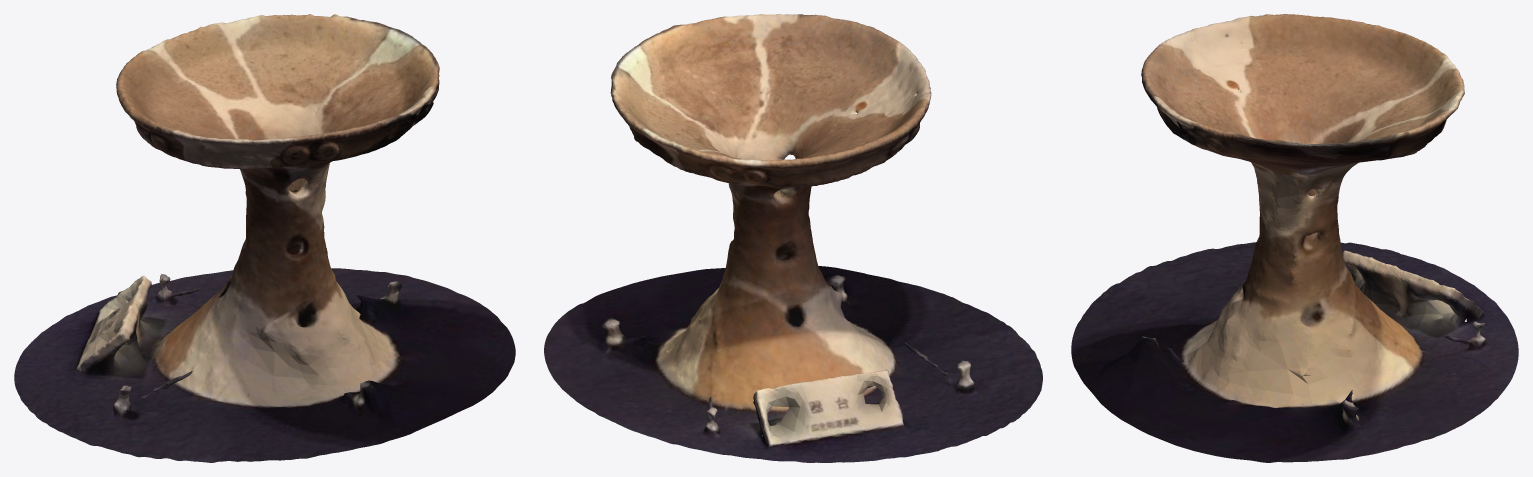
The model's file is kokaidotest3.glb.
3 views of the same model, side by side, from view 1: azimuth 30°, elevation 25°; view 2: azimuth 150°, elevation 25°; view 3: azimuth 270°, elevation 25° (orthographic).
Visible parts, largest first — view 1: mesh; view 2: mesh; view 3: mesh.
Boxes of the visible parts, left/top/right/bottom form: mesh: left=14, top=14, right=515, bottom=462; mesh: left=544, top=14, right=1042, bottom=462; mesh: left=1071, top=14, right=1518, bottom=462.
Bounding box in the file's own units: 0.3286 × 0.2021 × 0.281.
1 material, 1 textured.
